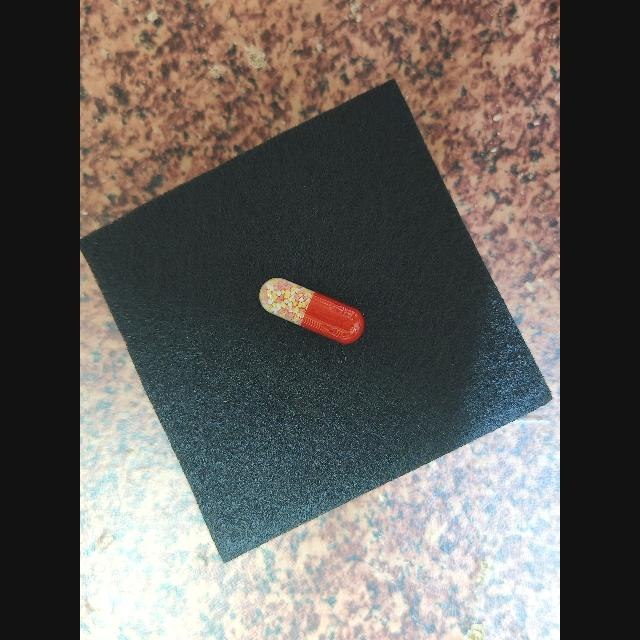Intact Capsule: (259, 278, 364, 344)
